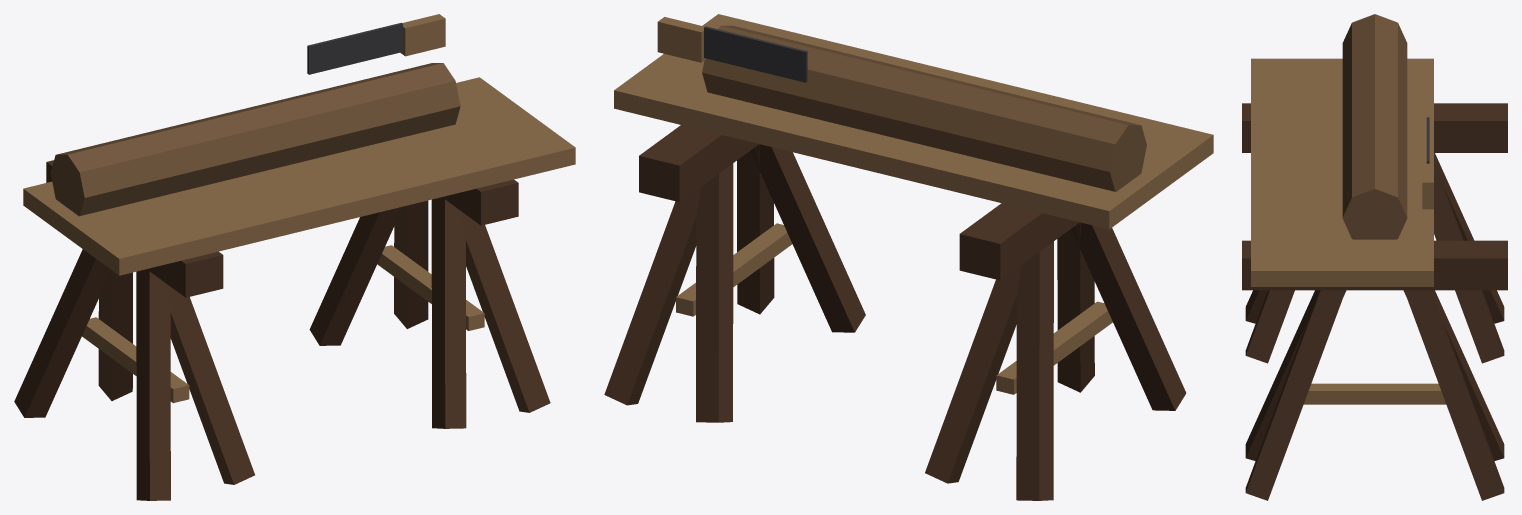
File: sawhorse_bench_lod0.glb
The picture shows the model from 3 angles, left to right: view 1: azimuth 30°, elevation 25°; view 2: azimuth 150°, elevation 25°; view 3: azimuth 270°, elevation 25°; orthographic projection. The views are drawn at different scales.
Parts seen in each view (by area): view 1: sawhorse_bench; view 2: sawhorse_bench; view 3: sawhorse_bench.
Boxes of the visible parts, x1,y1,x2,y2 form: sawhorse_bench: [14, 14, 575, 500]; sawhorse_bench: [604, 14, 1213, 500]; sawhorse_bench: [1242, 14, 1507, 500].
Bounding box in the file's own units: 1.7 × 1.19 × 0.9.
